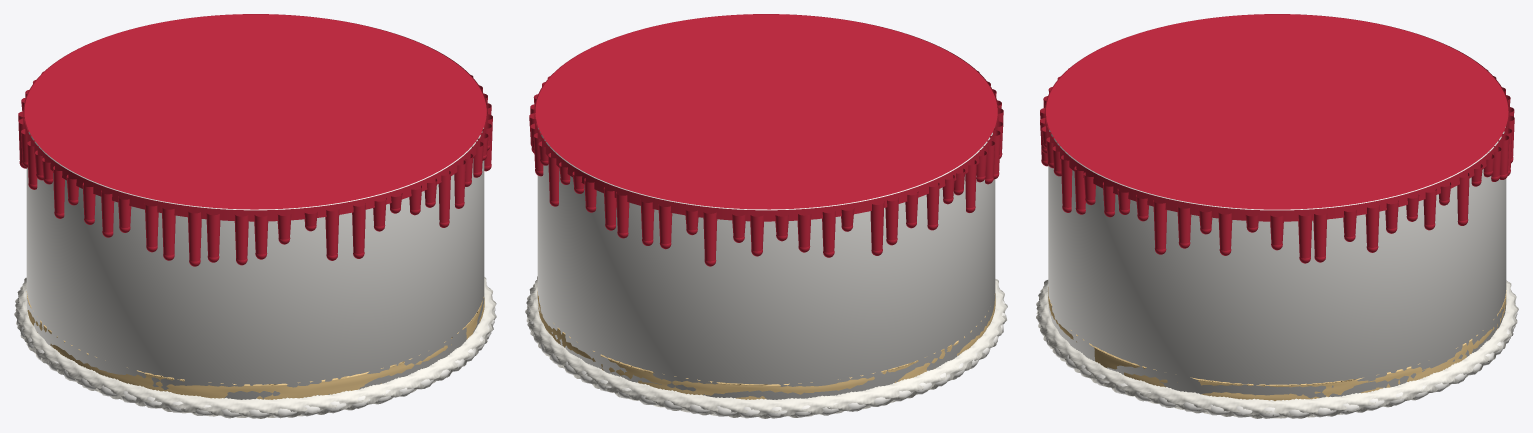
File: cakes.glb
3 renders of one model, left to right at view 1: azimuth 30°, elevation 25°; view 2: azimuth 150°, elevation 25°; view 3: azimuth 270°, elevation 25°, orthographic.
Visible parts, largest first — view 1: body_d8_h4, drip_d8_h4, drip_d6_h4, filling_d8, drip_d4_h4, sponge_d8, shell_d8; view 2: body_d8_h4, drip_d8_h4, drip_d6_h4, drip_d4_h4, filling_d8, sponge_d8, shell_d8; view 3: drip_d8_h4, body_d8_h4, drip_d6_h4, filling_d8, drip_d4_h4, sponge_d8, shell_d8.
Boxes of the visible parts, x1,y1,x2,y2 form: body_d8_h4: (26, 127, 484, 399); drip_d8_h4: (18, 14, 492, 266); drip_d6_h4: (82, 38, 429, 185); filling_d8: (14, 277, 496, 418); drip_d4_h4: (139, 62, 370, 160); sponge_d8: (26, 291, 484, 399); shell_d8: (16, 285, 495, 418); body_d8_h4: (537, 128, 995, 399); drip_d8_h4: (529, 14, 1003, 266); drip_d6_h4: (592, 38, 940, 185); drip_d4_h4: (650, 62, 882, 160); filling_d8: (525, 276, 1007, 418); sponge_d8: (537, 291, 995, 399); shell_d8: (527, 297, 1006, 418); drip_d8_h4: (1040, 14, 1514, 263); body_d8_h4: (1048, 127, 1506, 398); drip_d6_h4: (1103, 38, 1449, 185); filling_d8: (1036, 280, 1518, 418); drip_d4_h4: (1162, 62, 1392, 160); sponge_d8: (1048, 287, 1506, 400); shell_d8: (1037, 301, 1517, 418).
Bounding box in the file's own units: 0.2144 × 0.1019 × 0.2142.
